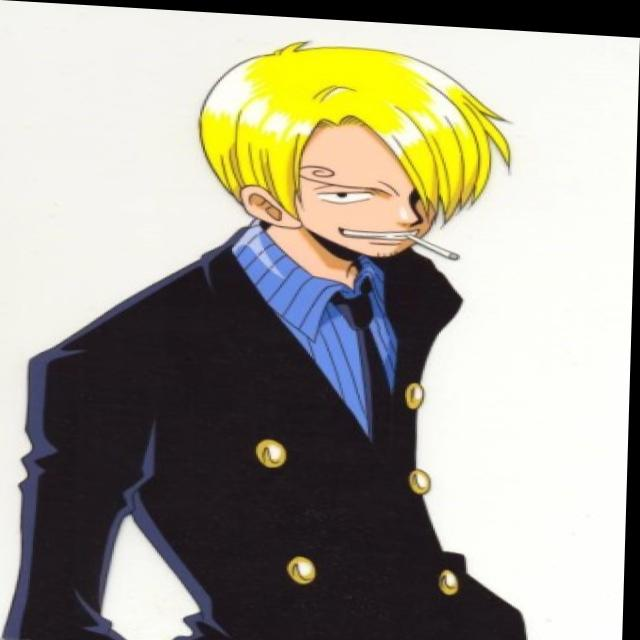Sangdi: (195, 25, 529, 271)
